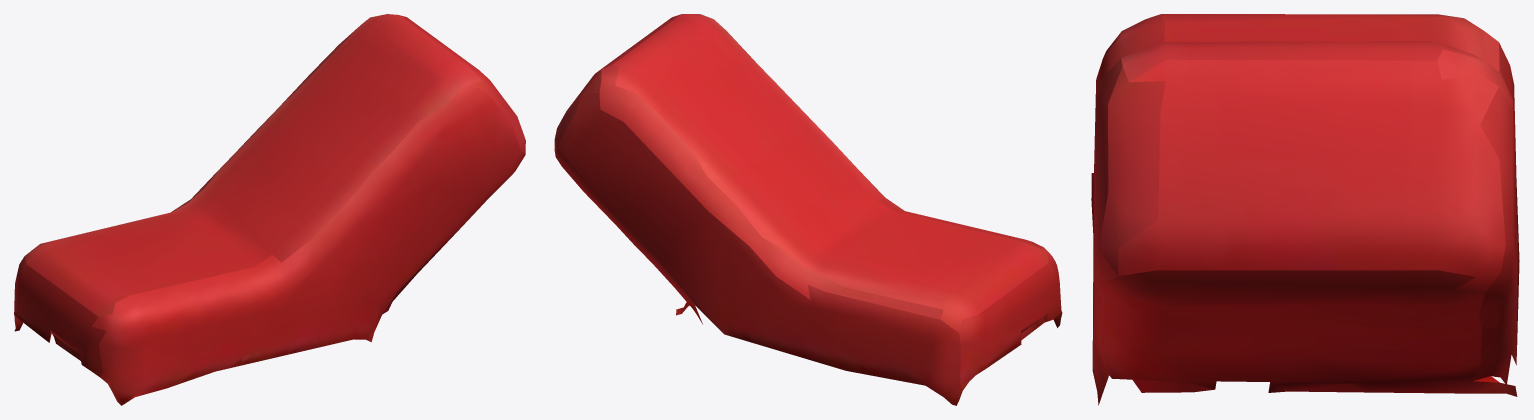
The model's file is switch.glb.
3 views of the same model, side by side, from view 1: azimuth 30°, elevation 25°; view 2: azimuth 150°, elevation 25°; view 3: azimuth 270°, elevation 25° (orthographic). The views are drawn at different scales.
Visible parts, largest first — view 1: geometry_0; view 2: geometry_0; view 3: geometry_0.
Boxes of the visible parts, x1=… form: geometry_0: x1=14, y1=14, x2=525, y2=405; geometry_0: x1=554, y1=14, x2=1062, y2=405; geometry_0: x1=1091, y1=14, x2=1519, y2=405.
Bounding box in the file's own units: 0.0353 × 0.019 × 0.0157.
1 material, 1 textured.
